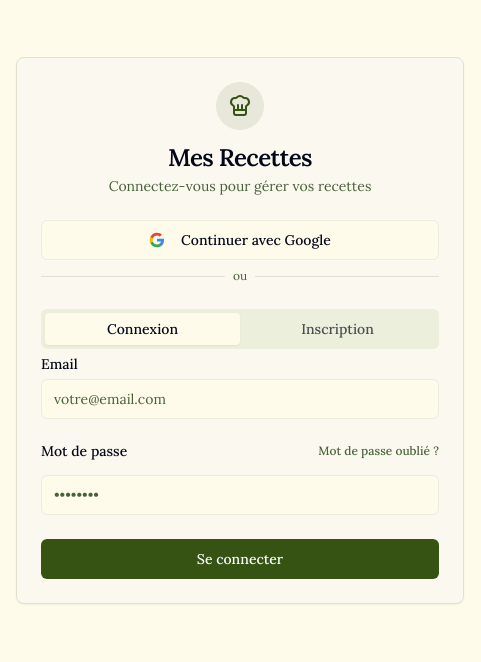
it: Auth — affichage des erreurs › affiche un message quand la réinitialisation échoue
Click the button "Mot de passe oublié ?": (379, 450) [318, 434, 439, 466]
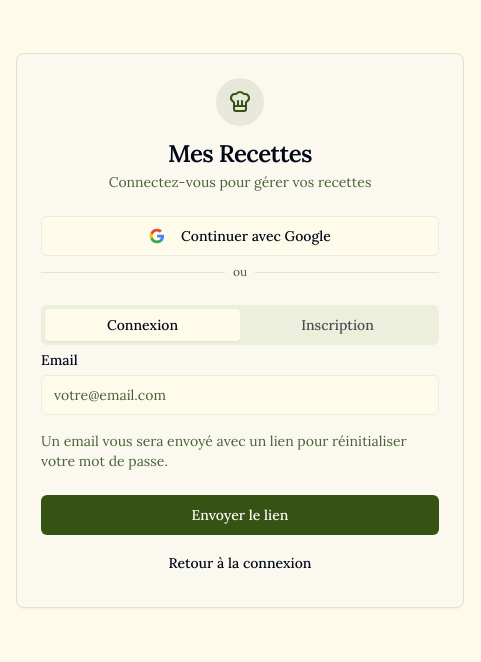
In the field labelled "Email": (240, 394) [41, 374, 439, 414], type "test@example.com"
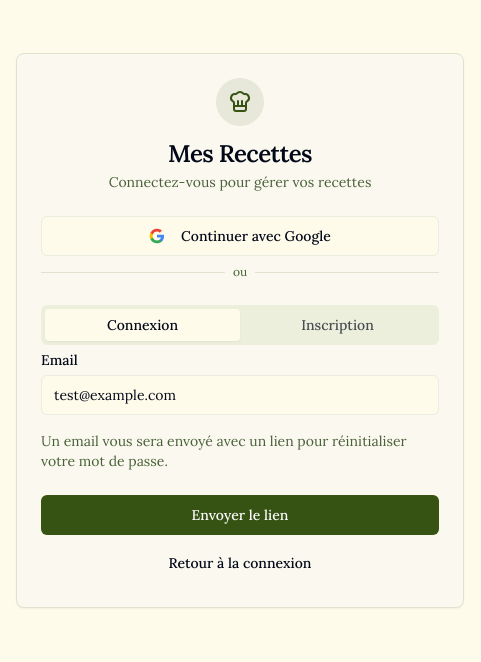
Click the button "Envoyer le lien": (240, 514) [41, 494, 439, 534]
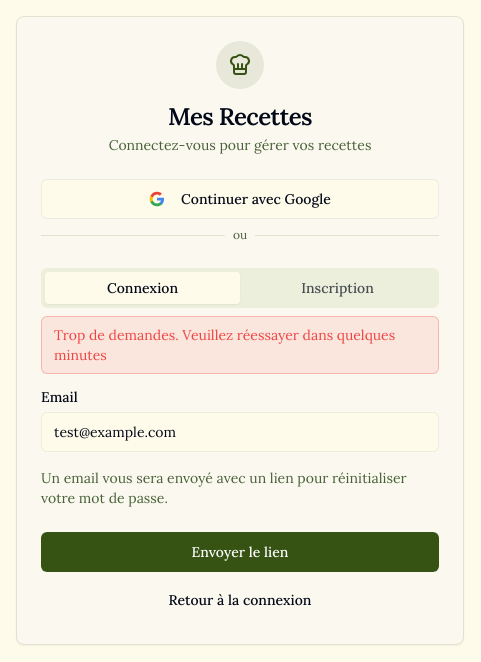
Expected: the text "Trop de demandes. Veuillez réessayer dans quelques minutes" is shown, [41, 316, 439, 374]
